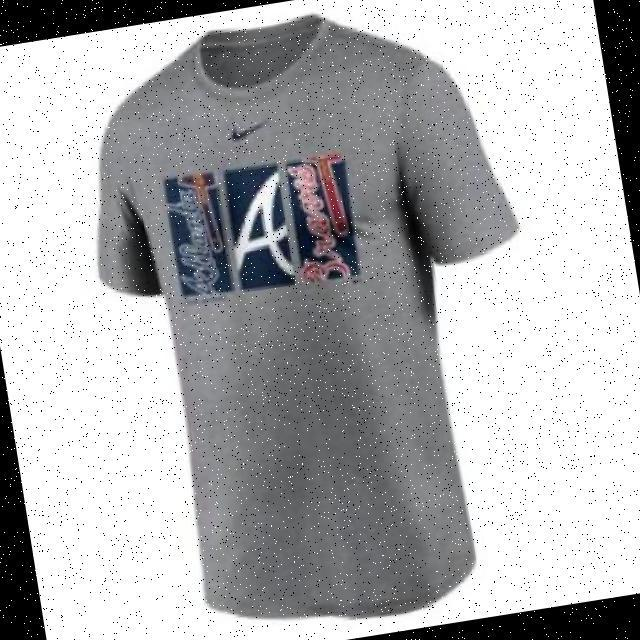Nike: (225, 119, 264, 143)
